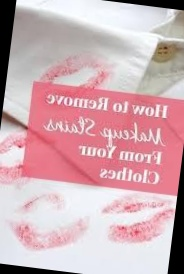lipstick: (1, 203, 92, 264), (99, 189, 174, 251), (36, 46, 103, 89), (13, 189, 72, 231), (74, 71, 113, 94), (0, 129, 27, 160), (0, 163, 19, 187)
